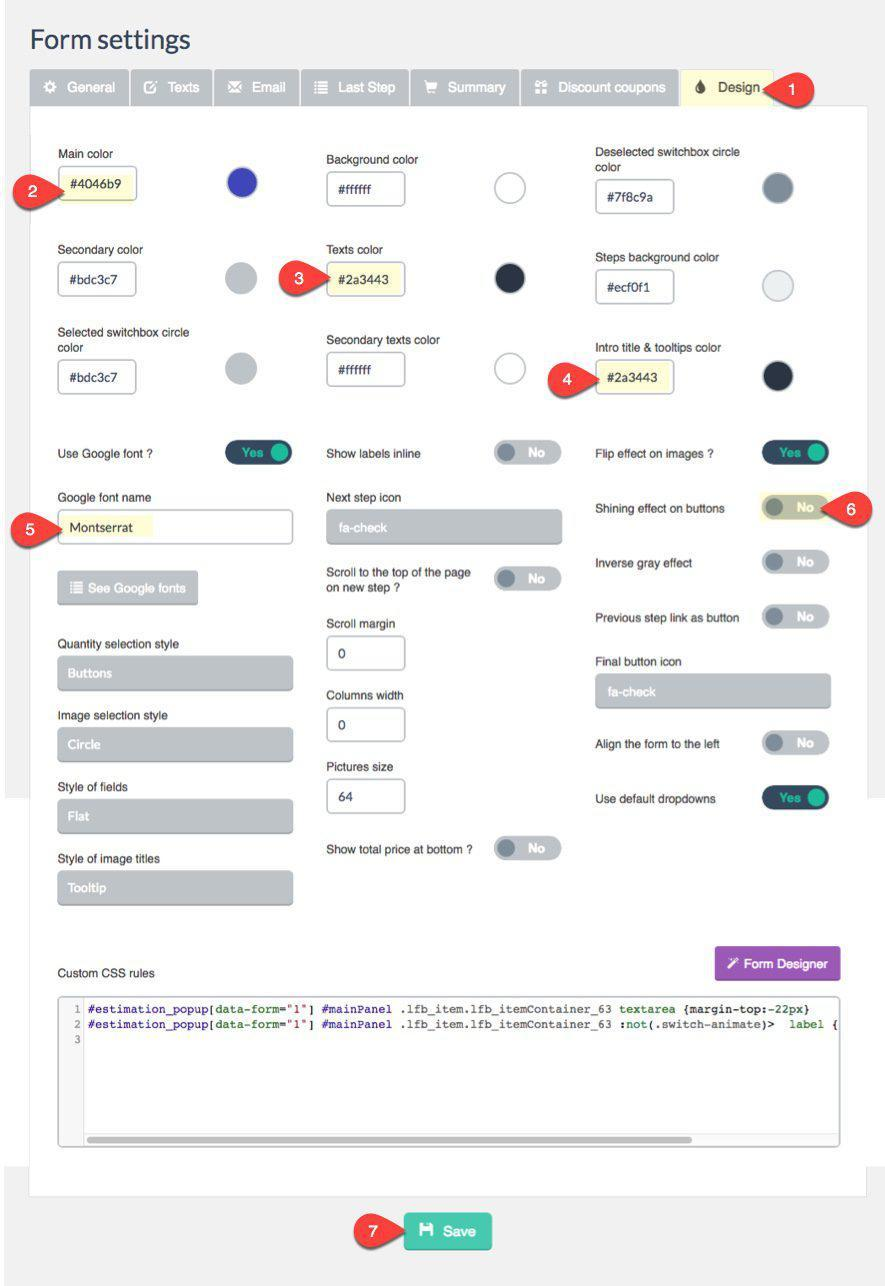button: (58, 797, 297, 837), (57, 869, 296, 908), (326, 508, 564, 546), (56, 729, 295, 765), (597, 674, 834, 710), (58, 657, 295, 691), (713, 944, 843, 985), (58, 570, 200, 607), (403, 1211, 496, 1254)
icon: (423, 80, 440, 97), (144, 80, 161, 97), (313, 81, 331, 96), (227, 80, 244, 95), (534, 81, 549, 96), (694, 80, 708, 95), (45, 80, 58, 96)
input: (58, 511, 296, 547), (58, 166, 140, 205), (325, 351, 407, 390), (56, 261, 139, 299), (55, 360, 140, 397), (326, 261, 408, 299), (325, 172, 407, 208), (595, 360, 677, 396), (328, 708, 407, 745), (596, 180, 675, 215), (328, 638, 408, 672), (328, 779, 404, 814), (597, 272, 676, 304)
label: (320, 559, 480, 599), (29, 28, 194, 57), (57, 325, 191, 355), (594, 147, 744, 173), (59, 631, 181, 653), (595, 500, 726, 519), (58, 442, 157, 467), (592, 610, 742, 625), (594, 249, 720, 266), (325, 842, 476, 856), (591, 339, 723, 355), (57, 706, 172, 724), (595, 446, 715, 463), (56, 850, 163, 869), (594, 554, 695, 574), (558, 80, 669, 96), (326, 333, 444, 348), (327, 445, 423, 463), (595, 738, 723, 751), (55, 965, 158, 981), (595, 793, 718, 806), (324, 151, 417, 167), (57, 492, 155, 507), (593, 656, 685, 669), (56, 244, 147, 257), (324, 620, 400, 635), (56, 781, 137, 795), (325, 690, 409, 703), (323, 491, 403, 504), (334, 81, 402, 96), (447, 81, 508, 97), (324, 763, 393, 775), (57, 149, 115, 163), (66, 80, 119, 95), (327, 244, 385, 256), (166, 80, 203, 95), (719, 82, 761, 95), (251, 82, 288, 94)
radio: (223, 261, 260, 297), (225, 165, 261, 202), (492, 169, 527, 206), (492, 350, 529, 385), (760, 359, 796, 394), (225, 352, 262, 385), (763, 268, 796, 304), (494, 261, 527, 296), (763, 173, 795, 206)
switch: (496, 437, 562, 469), (761, 437, 831, 467), (761, 728, 832, 757), (761, 493, 831, 522), (495, 564, 564, 593), (761, 604, 832, 632), (493, 835, 562, 863), (222, 440, 295, 466), (761, 784, 830, 811), (764, 551, 831, 576)
